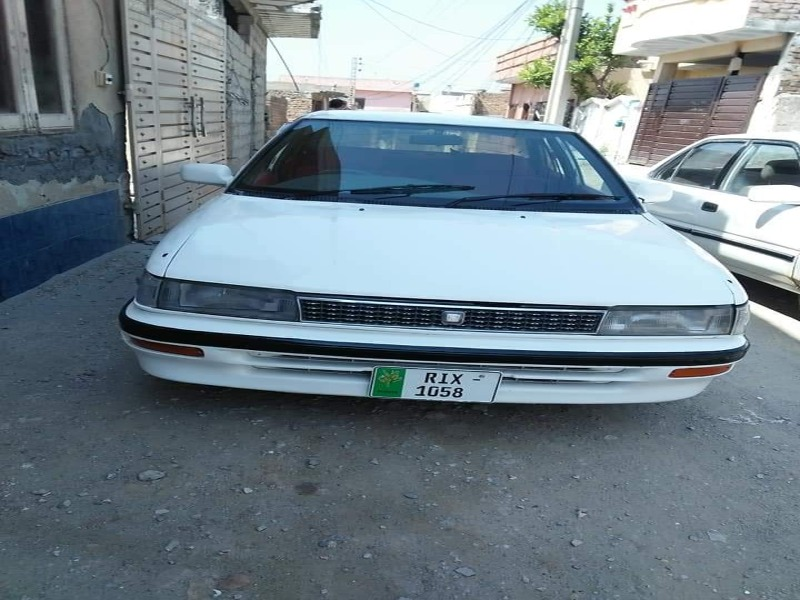License Plate: (367, 362, 507, 409)
